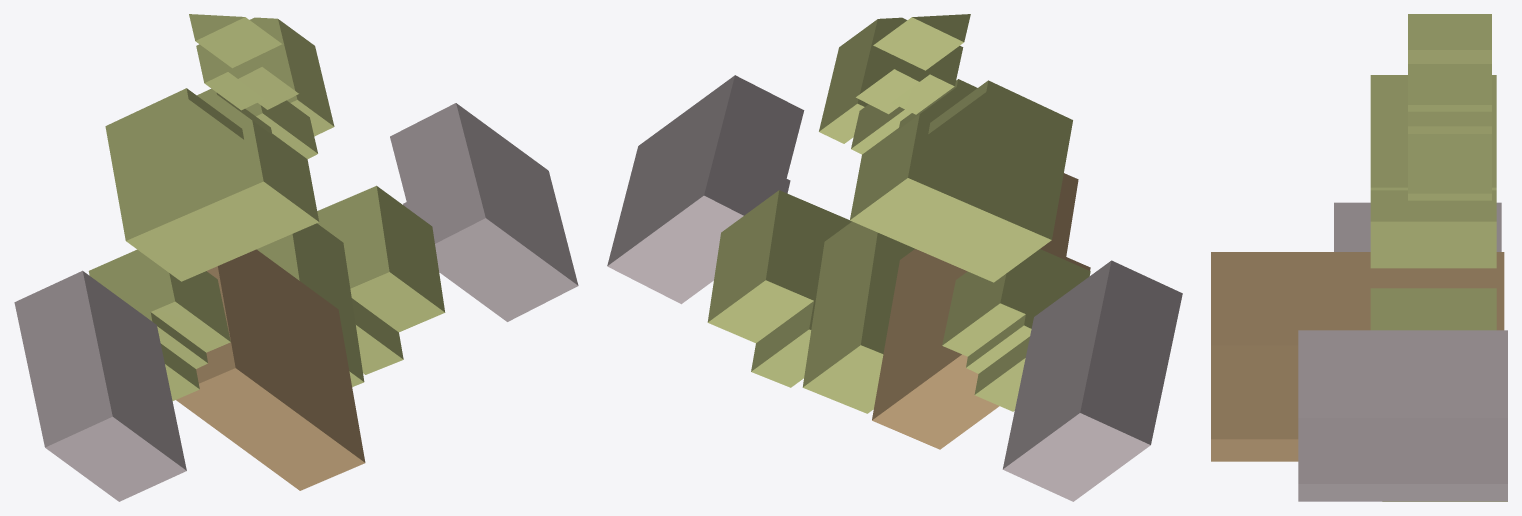
The picture shows the model from 3 angles, left to right: view 1: azimuth 30°, elevation 25°; view 2: azimuth 150°, elevation 25°; view 3: azimuth 270°, elevation 25°; orthographic projection. The views are drawn at different scales.
Parts seen in each view (by area): view 1: 0_1_3_2_2_2_0_1_2; view 2: 0_1_3_2_2_2_0_1_2; view 3: 0_1_3_2_2_2_0_1_2.
Boxes of the visible parts, left/top/right/bottom form: 0_1_3_2_2_2_0_1_2: left=14, top=14, right=578, bottom=501; 0_1_3_2_2_2_0_1_2: left=607, top=14, right=1182, bottom=501; 0_1_3_2_2_2_0_1_2: left=1211, top=14, right=1507, bottom=501.
Size of the model in its own units: 44.27 by 35.94 by 21.26.
